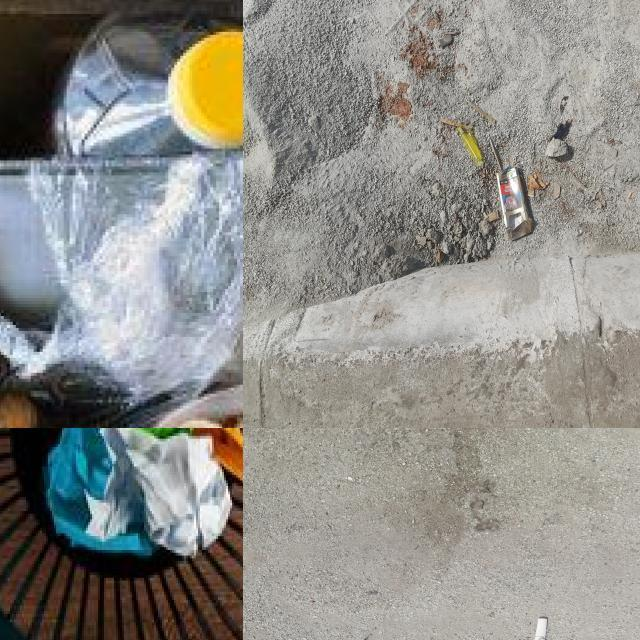Background: (243, 0, 640, 428), (243, 428, 640, 640)
Cig_bud: (534, 616, 548, 640)
Cig_pack: (497, 168, 533, 241)
Garbage: (0, 0, 243, 428)
Paper: (0, 428, 243, 640), (45, 428, 243, 555)
Plastic: (457, 127, 483, 166), (636, 81, 638, 83)
contaminated_waste: (3, 150, 243, 412), (0, 9, 243, 243)
top_view_waste: (14, 428, 243, 580)
